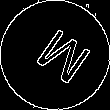M_SW: (22, 21, 88, 89)
